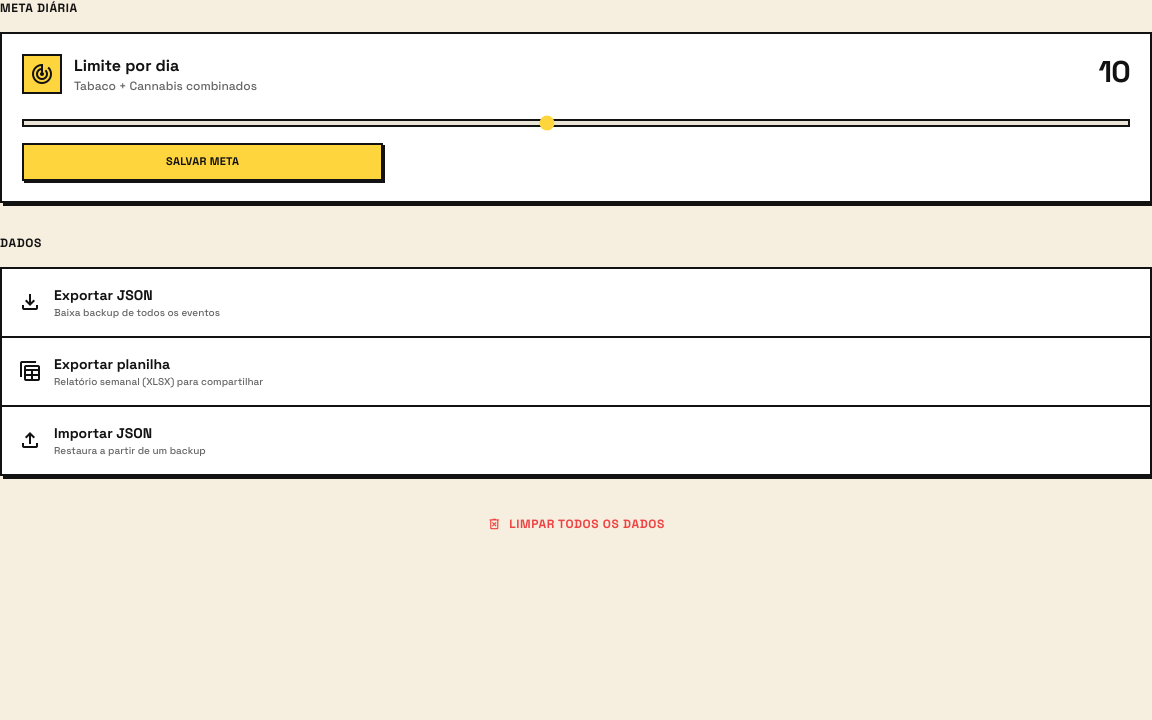
Test case: GoalsContent › export planilha › blocks an inverted range and an end date after today
This screenshot has width=1152, height=720.
Click the button "Exportar planilha Relatório semanal (XLSX) para compartilhar" at (112, 364), box [2, 338, 1150, 407]
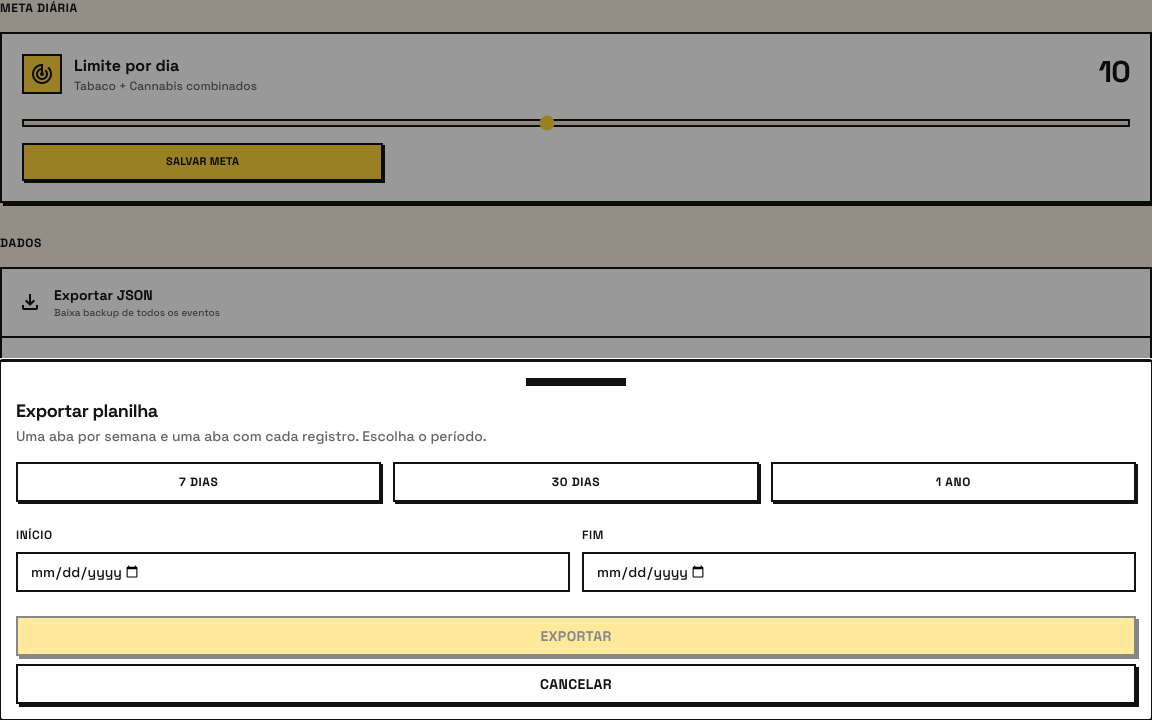
Type "2026-04-05" into the date field labelled "Início" at (293, 572), box [16, 552, 570, 592]
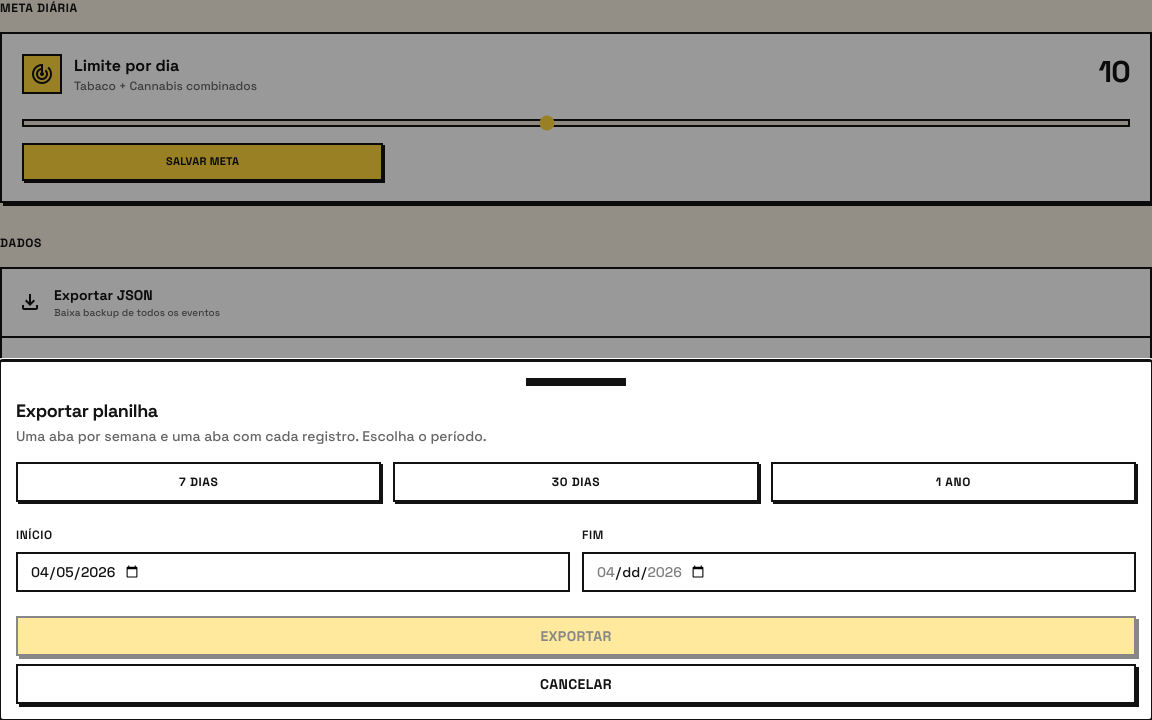
Type "2026-04-01" into the date field labelled "Fim" at (859, 572), box [582, 552, 1136, 592]
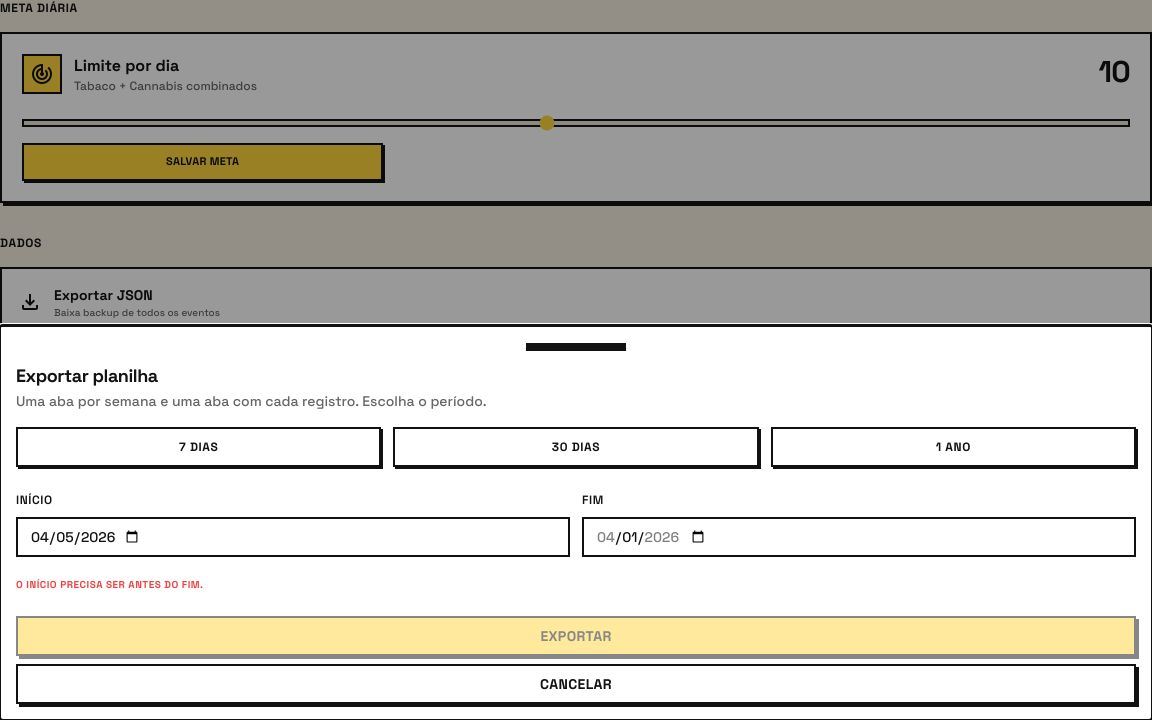
Result: the button "Exportar" is disabled at [16, 616, 1136, 656]
Result: the text "O início precisa ser antes do fim." is shown at [16, 578, 204, 591]
Type "2026-04-09" into the date field labelled "Fim" at (859, 537), box [582, 517, 1136, 557]
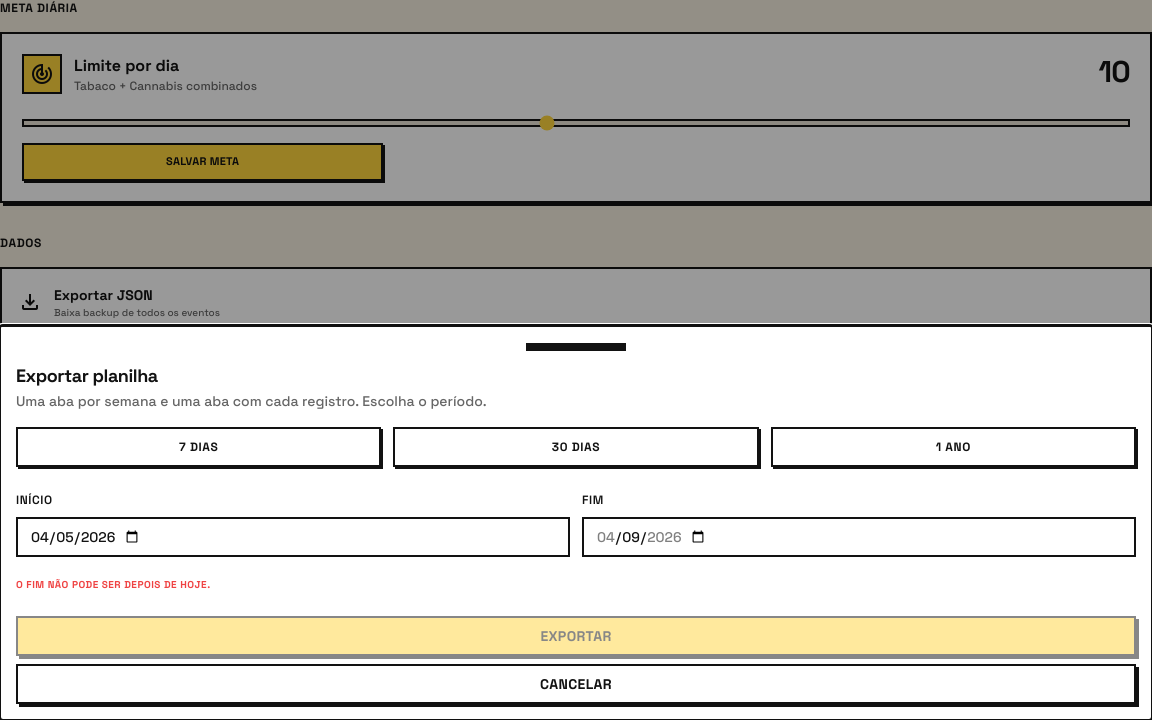
Result: the button "Exportar" is disabled at [16, 616, 1136, 656]
Result: the text "O fim não pode ser depois de hoje." is shown at [16, 578, 211, 591]
